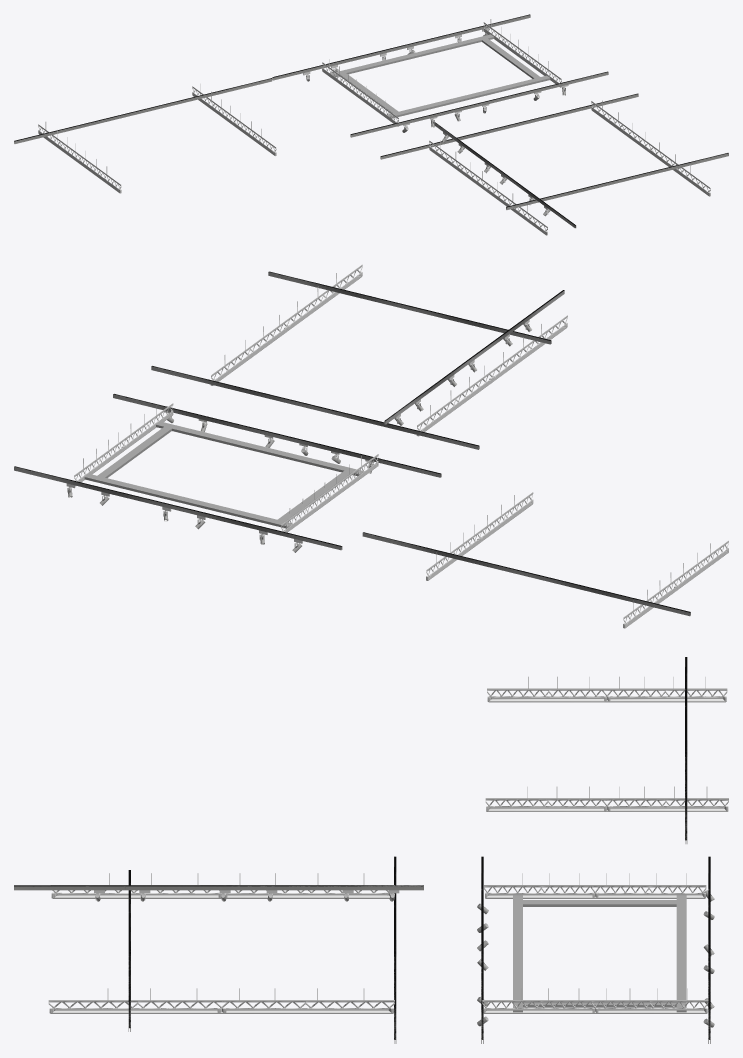
3 renders of one model, top to bottom at view 1: azimuth 30°, elevation 25°; view 2: azimuth 150°, elevation 25°; view 3: azimuth 270°, elevation 25°, orthographic. The views are drawn at different scales.
Parts seen in each view (by area): view 1: lamp_steel.001, lamp_steel, lamp_steel.007, Grill_grill_0.005, Grill_grill_0.003, lamp_steel.003, 立方體.017, lamp_steel.002, 立方體.018, Grill_grill_0.006, Grill_grill_0.007, Grill_grill_0.002 (+3 smaller); view 2: lamp_steel.007, lamp_steel, lamp_steel.003, lamp_steel.001, Grill_grill_0.003, Grill_grill_0.005, 立方體.018, lamp_steel.002, 立方體.017, Grill_grill_0.007, Grill_grill_0.006, Grill_grill_0.002 (+4 smaller); view 3: Grill_grill_0.003, Grill_grill_0.006, Grill_grill_0.007, Grill_grill_0.005, Grill_grill_0.004, Grill_grill_0.002, lamp_steel.006, 立方體.018, 立方體.020, 立方體.017, 立方體.019.
Part boxes in pixels (x1,y1,x2,y2): lamp_steel.001: (350, 71, 608, 137); lamp_steel: (14, 78, 272, 143); lamp_steel.007: (272, 14, 530, 80); Grill_grill_0.005: (429, 140, 547, 235); Grill_grill_0.003: (591, 100, 710, 196); lamp_steel.003: (380, 93, 638, 159); 立方體.017: (386, 75, 550, 118); lamp_steel.002: (506, 153, 728, 209); 立方體.018: (331, 34, 494, 77); Grill_grill_0.006: (38, 122, 121, 193); Grill_grill_0.007: (192, 83, 276, 155); Grill_grill_0.002: (322, 59, 398, 126); lamp_steel.007: (14, 466, 342, 550); lamp_steel: (362, 532, 690, 616); lamp_steel.003: (151, 365, 479, 449); lamp_steel.001: (113, 393, 441, 477); Grill_grill_0.003: (210, 264, 362, 385); Grill_grill_0.005: (416, 315, 567, 436); 立方體.018: (84, 474, 292, 528); lamp_steel.002: (268, 271, 551, 344); 立方體.017: (156, 421, 364, 476); Grill_grill_0.007: (426, 492, 533, 580); Grill_grill_0.006: (623, 540, 728, 628); Grill_grill_0.002: (281, 454, 378, 532); Grill_grill_0.003: (48, 988, 394, 1013); Grill_grill_0.006: (487, 676, 727, 702); Grill_grill_0.007: (485, 786, 728, 811); Grill_grill_0.005: (51, 873, 394, 898); Grill_grill_0.004: (482, 988, 708, 1013); Grill_grill_0.002: (484, 873, 706, 898); lamp_steel.006: (14, 885, 423, 890); 立方體.018: (676, 895, 686, 1012); 立方體.020: (517, 900, 683, 906); 立方體.017: (513, 895, 522, 1012); 立方體.019: (517, 1002, 683, 1007).
Size of the model in its own units: 17.47 by 0.8254 by 14.18.
Materials: 168 (5 with a texture image).
